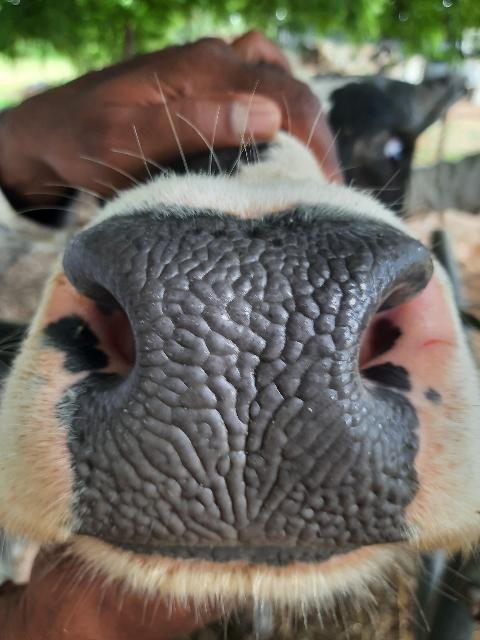Muzzle: (123, 238, 369, 542)
